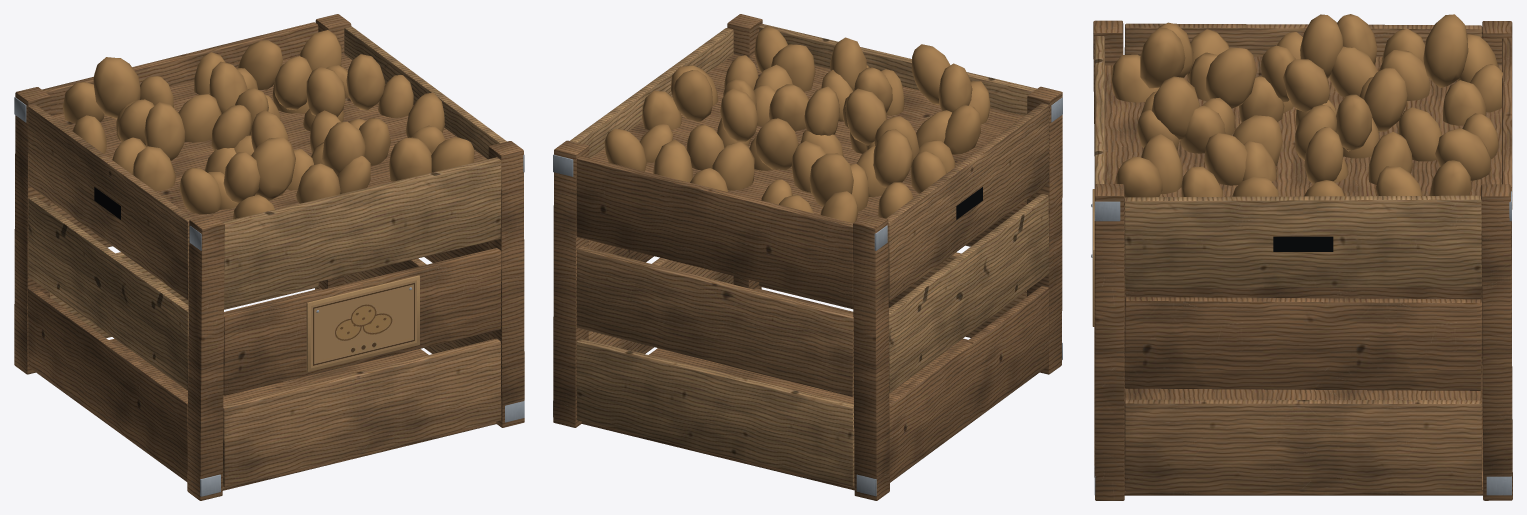
File: produce_box_potato.glb
The picture shows the model from 3 angles, left to right: view 1: azimuth 30°, elevation 25°; view 2: azimuth 150°, elevation 25°; view 3: azimuth 270°, elevation 25°; orthographic projection. The views are drawn at different scales.
Visible parts, largest first — view 1: ProduceBoxPotatoBody, Potato39, Potato40, Potato37, Potato48, Potato43, Potato1, Potato46, Potato47, Potato16, Potato24, Potato29 (+21 smaller); view 2: ProduceBoxPotatoBody, Potato38, Potato45, Potato39, Potato42, Potato48, Potato47, Potato22, Potato40, Potato1, Potato44, Potato24 (+26 smaller); view 3: ProduceBoxPotatoBody, Potato39, Potato41, Potato40, Potato43, Potato45, Potato44, Potato29, Potato37, Potato25, Potato48, Potato22 (+30 smaller).
Boxes of the visible parts, box(x1,y1,x2,y2) form: ProduceBoxPotatoBody: box(14, 14, 524, 500); Potato39: box(93, 57, 140, 118); Potato40: box(251, 137, 295, 200); Potato37: box(144, 102, 185, 160); Potato48: box(346, 54, 385, 109); Potato43: box(322, 121, 365, 175); Potato1: box(179, 167, 221, 214); Potato46: box(306, 66, 345, 116); Potato47: box(274, 56, 312, 110); Potato16: box(178, 94, 221, 142); Potato24: box(389, 137, 431, 181); Potato29: box(237, 40, 282, 89); ProduceBoxPotatoBody: box(553, 14, 1062, 500); Potato38: box(873, 129, 912, 187); Potato45: box(755, 118, 798, 170); Potato39: box(809, 153, 853, 207); Potato42: box(845, 88, 887, 145); Potato48: box(673, 70, 712, 122); Potato47: box(720, 88, 757, 142); Potato22: box(712, 142, 754, 190); Potato40: box(911, 44, 950, 105); Potato1: box(944, 105, 980, 154); Potato44: box(804, 86, 839, 135); Potato24: box(771, 44, 815, 91); ProduceBoxPotatoBody: box(1091, 20, 1512, 500); Potato39: box(1423, 14, 1468, 87); Potato41: box(1206, 47, 1256, 108); Potato40: box(1140, 28, 1185, 88); Potato43: box(1151, 76, 1199, 140); Potato45: box(1363, 67, 1407, 131); Potato44: box(1283, 59, 1329, 111); Potato29: box(1435, 128, 1490, 180); Potato37: box(1300, 14, 1342, 78); Potato25: box(1204, 133, 1247, 185); Potato48: box(1304, 127, 1343, 184); Potato22: box(1398, 107, 1441, 161).
Size of the model in its own units: 0.9795 by 0.9101 by 0.9869.
Materials: 8 (6 with a texture image).
